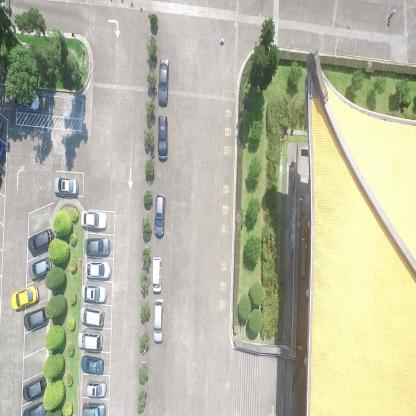car: (23, 304, 51, 332), (11, 284, 40, 311), (12, 87, 41, 113), (27, 228, 54, 254), (22, 374, 48, 400), (80, 208, 108, 231), (28, 256, 53, 281), (52, 175, 79, 198), (158, 58, 170, 106), (79, 305, 104, 328), (84, 259, 110, 281), (154, 194, 166, 239), (77, 331, 103, 351), (153, 299, 164, 345), (158, 113, 168, 162), (84, 237, 110, 255), (82, 285, 108, 303), (81, 354, 104, 374), (23, 400, 49, 416), (152, 256, 162, 293), (81, 402, 107, 416), (86, 379, 107, 396)
